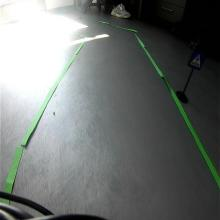crosswalk: (187, 50, 206, 70)
